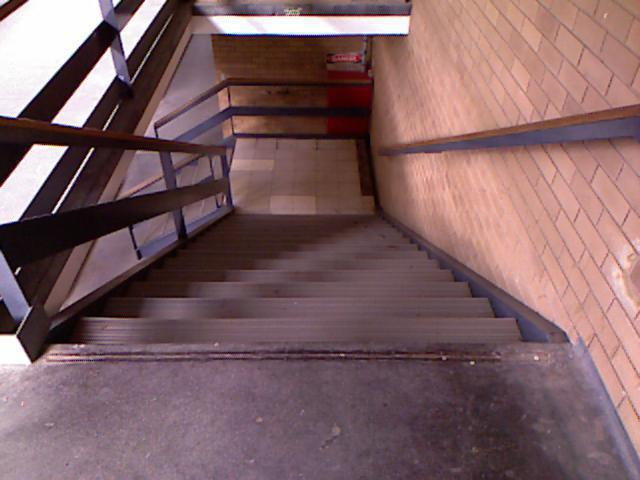Escaleras: (34, 197, 558, 365), (131, 118, 236, 232)
